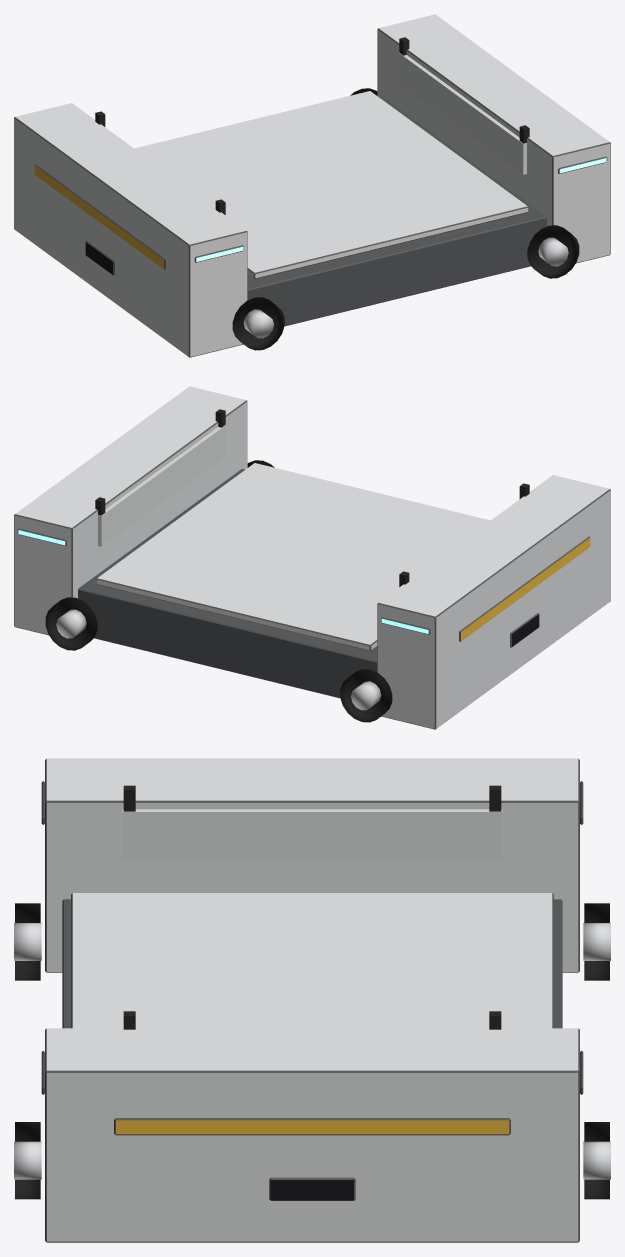
The model's file is shuttle_shuttle.glb.
3 views of the same model, one above another, from view 1: azimuth 30°, elevation 25°; view 2: azimuth 150°, elevation 25°; view 3: azimuth 270°, elevation 25° (orthographic). The views are drawn at different scales.
Parts seen in each view (by area): view 1: RackShuttle_Body, Arm, RackShuttle_Wheels; view 2: RackShuttle_Body, Arm, RackShuttle_Wheels; view 3: RackShuttle_Body, Arm, RackShuttle_Wheels.
Part boxes in pixels (left/top/right/bottom): RackShuttle_Body: left=14, top=14, right=610, bottom=357; Arm: left=95, top=37, right=529, bottom=214; RackShuttle_Wheels: left=232, top=88, right=579, bottom=350; RackShuttle_Body: left=14, top=386, right=610, bottom=729; Arm: left=95, top=409, right=529, bottom=586; RackShuttle_Wheels: left=45, top=460, right=392, bottom=722; RackShuttle_Body: left=41, top=758, right=583, bottom=1242; Arm: left=122, top=785, right=502, bottom=1029; RackShuttle_Wheels: left=14, top=903, right=610, bottom=1199.
Bounding box in the file's own units: 0.868 × 0.2375 × 0.692.
